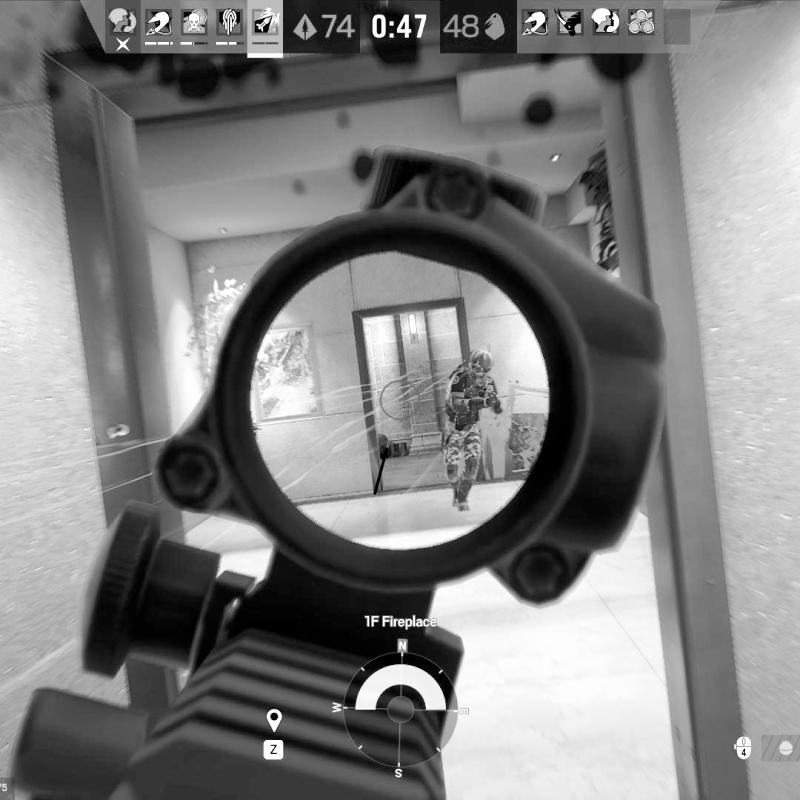Character: (435, 346, 508, 513)
Head: (470, 349, 494, 376)
